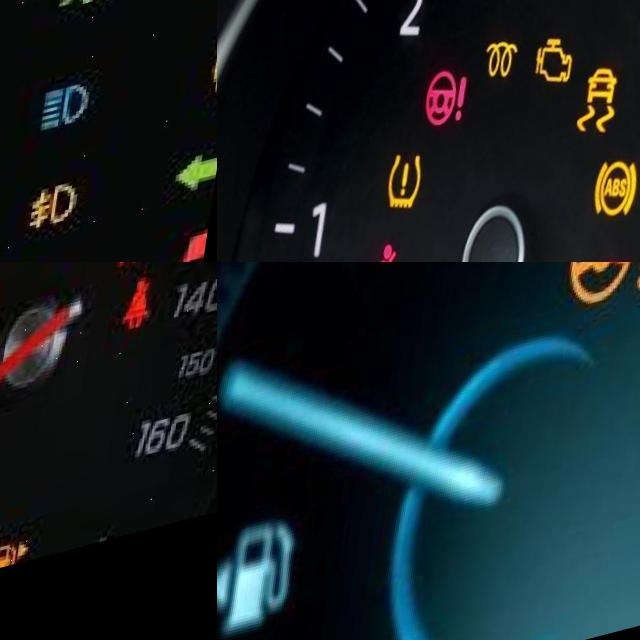Electronic Power Steering: (573, 262, 640, 338)
Electronic Power Steering Warning: (432, 78, 482, 150)
Seat Belt: (135, 302, 165, 355)
